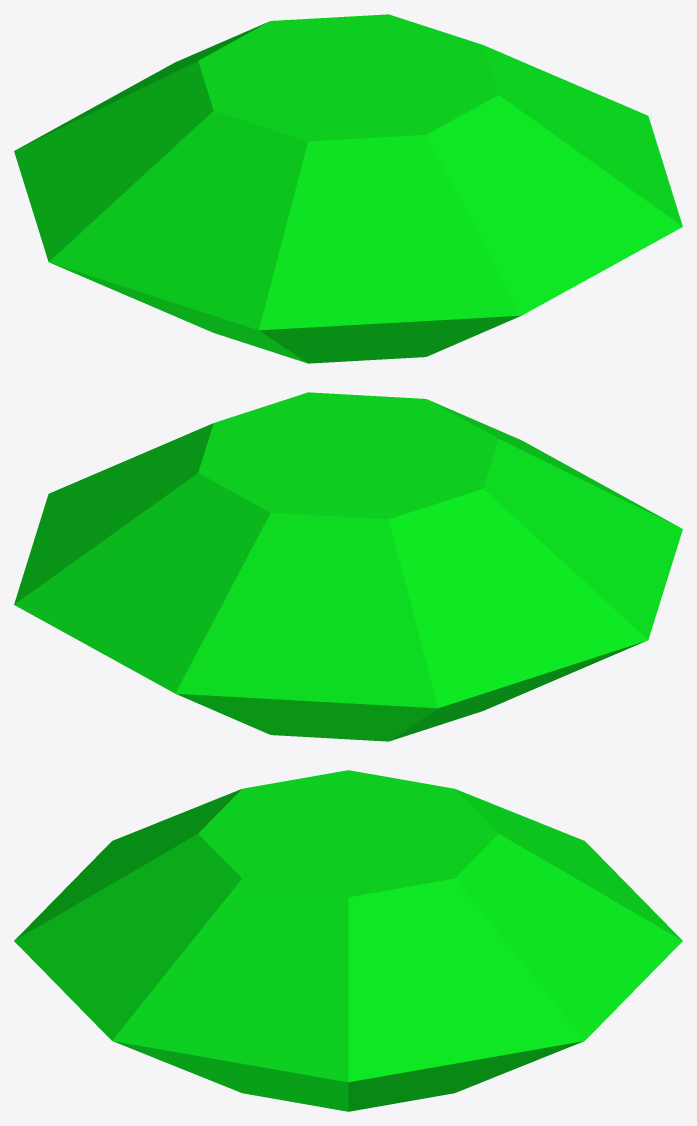
Rendered from Gem2.fbx.
3 views of the same model, one above another, from view 1: azimuth 30°, elevation 25°; view 2: azimuth 150°, elevation 25°; view 3: azimuth 270°, elevation 25° (orthographic). The views are drawn at different scales.
Visible parts, largest first — view 1: Gem2; view 2: Gem2; view 3: Gem2.
Part boxes in pixels (bbox=[...]): Gem2: bbox=[14, 14, 682, 363]; Gem2: bbox=[14, 392, 682, 741]; Gem2: bbox=[14, 770, 682, 1111].
Bounding box in the file's own units: 8.89 × 3.15 × 8.89.
